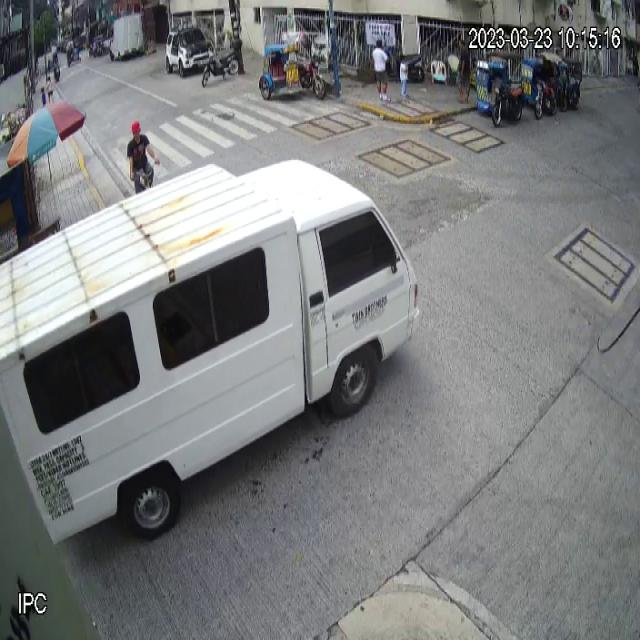Tricycle: (261, 32, 332, 104), (475, 49, 525, 126)
Van: (0, 157, 421, 543)
